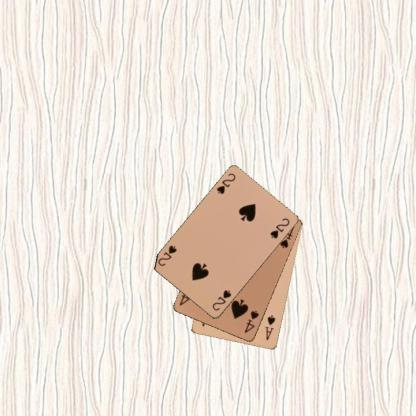2s: (214, 171, 237, 196), (210, 288, 232, 312)
4s: (242, 308, 260, 335)
As: (263, 312, 277, 342)
